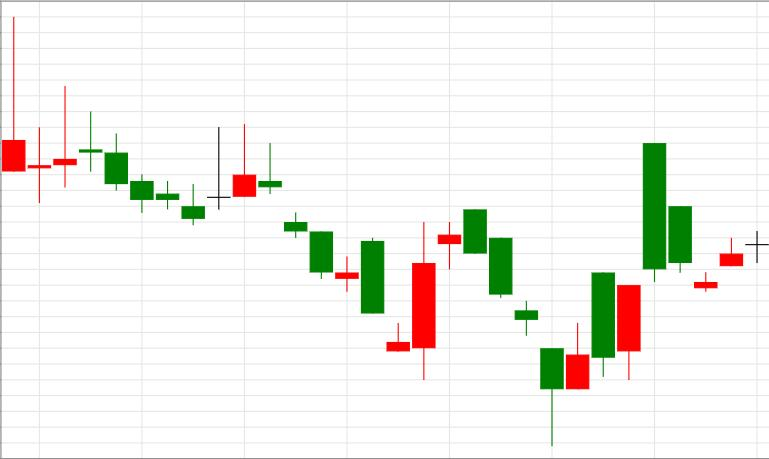hammer_rise: (438, 209, 564, 446)
